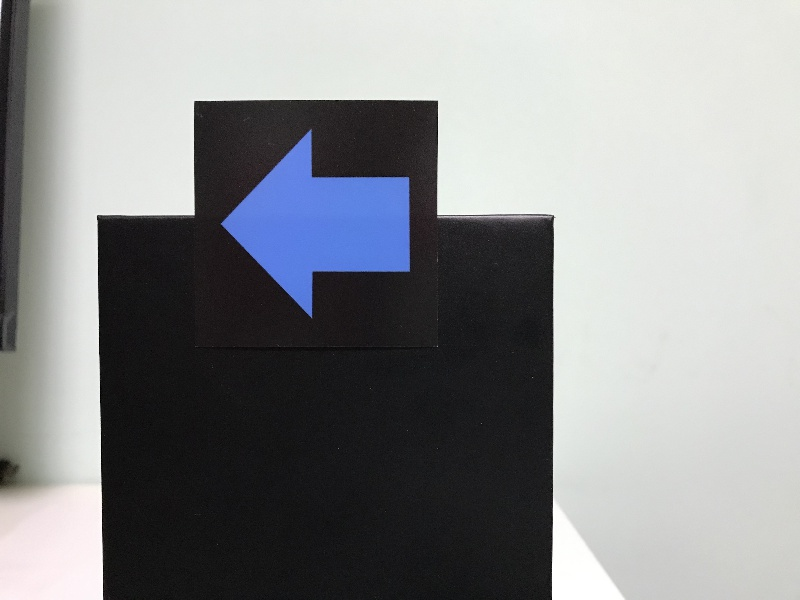LA-4: (198, 103, 434, 342)
